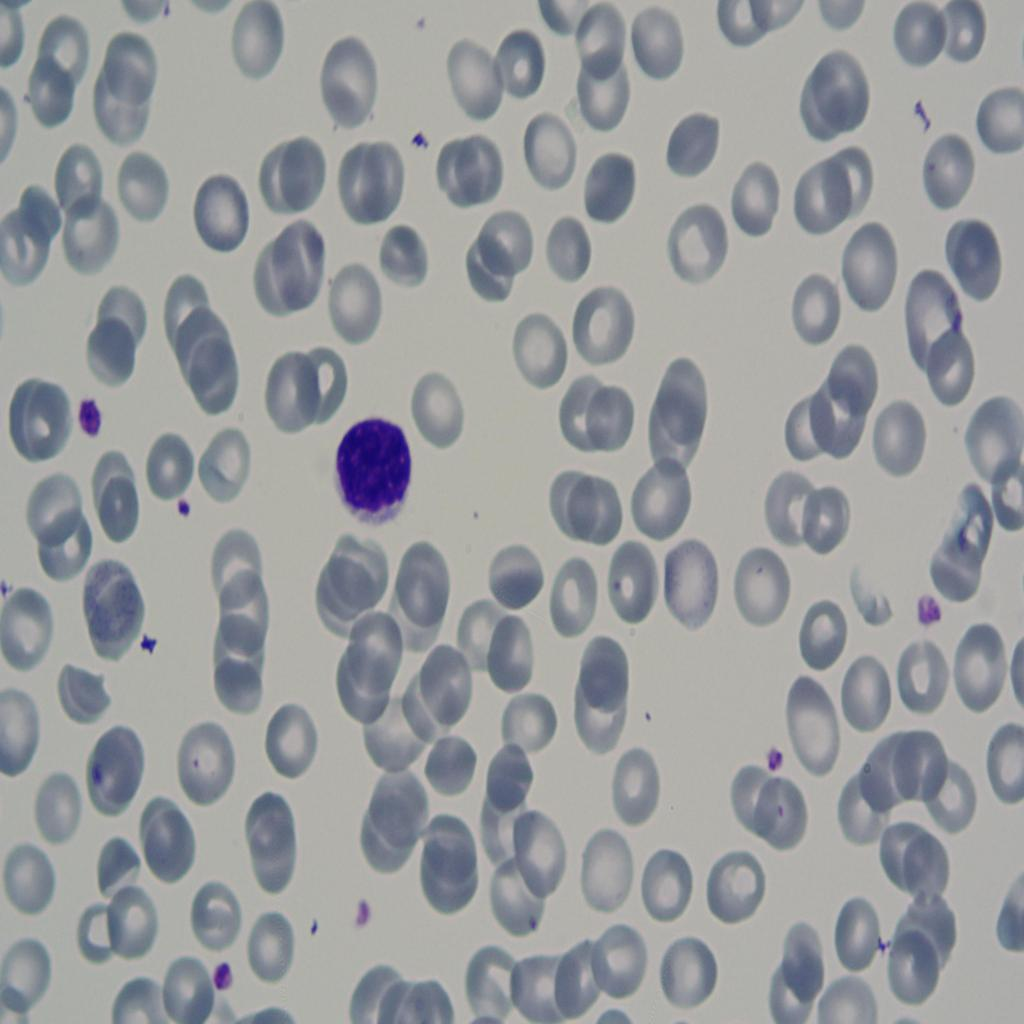Myeoblast: (319, 403, 419, 532)
Platelet: (913, 574, 947, 644), (752, 731, 788, 779), (206, 951, 240, 1000), (82, 385, 107, 447), (404, 118, 432, 170), (174, 489, 201, 526), (140, 620, 163, 658)
